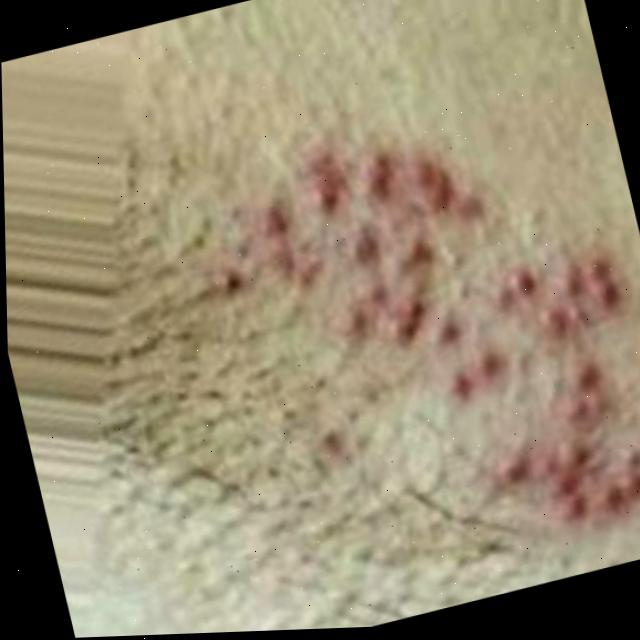Shingles: (236, 80, 640, 605)
